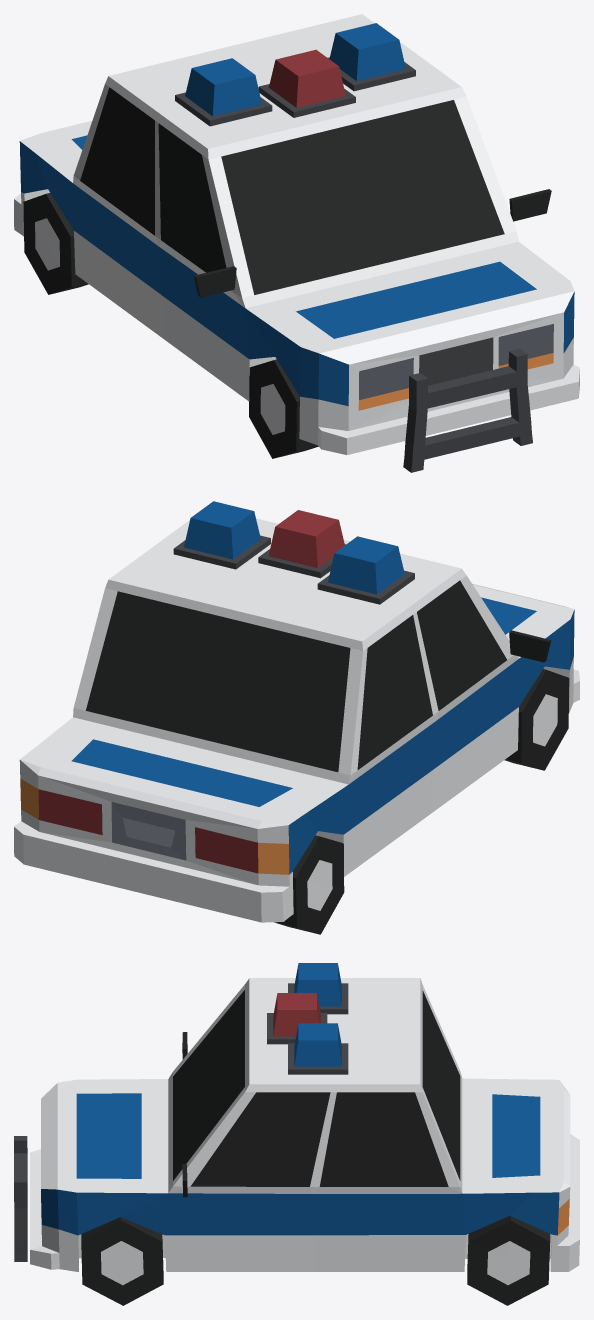
Rendered from Vehicles_Police_Car.fbx.
The picture shows the model from 3 angles, top to bottom: view 1: azimuth 30°, elevation 25°; view 2: azimuth 150°, elevation 25°; view 3: azimuth 270°, elevation 25°; orthographic projection. The views are drawn at different scales.
Visible parts, largest first — view 1: Vehicles_Police_Car; view 2: Vehicles_Police_Car; view 3: Vehicles_Police_Car.
Part boxes in pixels (box(x1,y1,x2,y2)): Vehicles_Police_Car: box(14, 14, 579, 472); Vehicles_Police_Car: box(14, 501, 579, 934); Vehicles_Police_Car: box(14, 963, 579, 1305).
Bounding box in the file's own units: 242 × 188 × 390.
